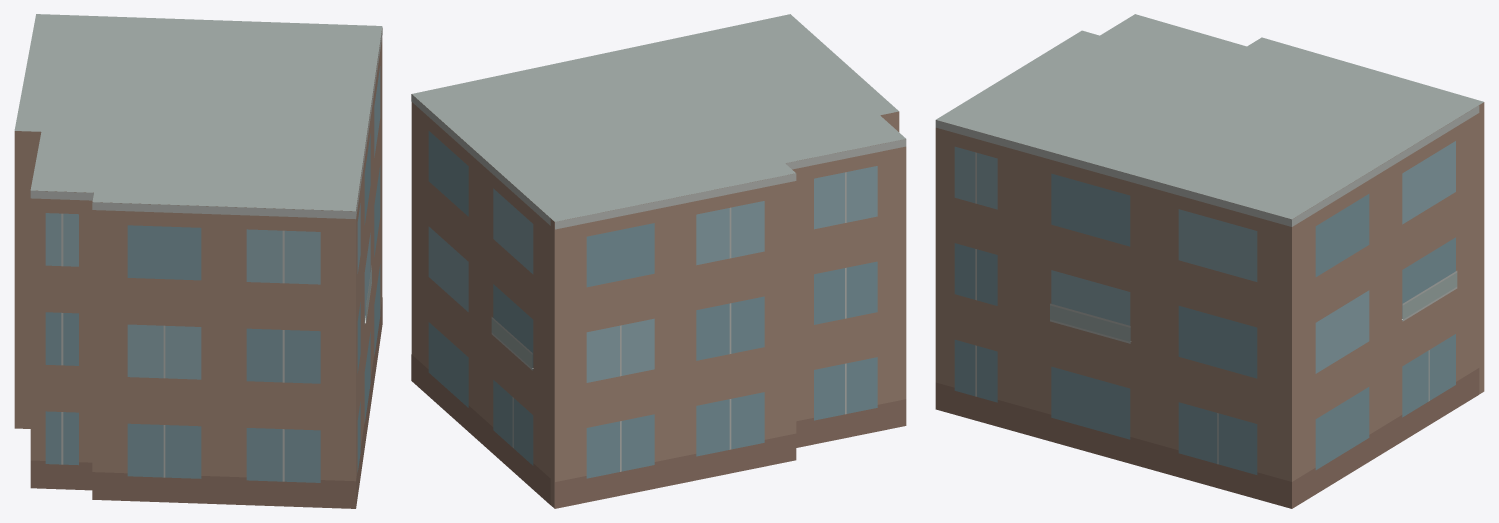
Rendered from survey-upis-32473926.glb.
3 views of the same model, side by side, from view 1: azimuth 30°, elevation 25°; view 2: azimuth 150°, elevation 25°; view 3: azimuth 270°, elevation 25° (orthographic). The views are drawn at different scales.
Parts seen in each view (by area): view 1: survey-upis-32473926.tmp; view 2: survey-upis-32473926.tmp; view 3: survey-upis-32473926.tmp.
Boxes of the visible parts, x1=… form: survey-upis-32473926.tmp: x1=14, y1=14, x2=382, y2=508; survey-upis-32473926.tmp: x1=411, y1=14, x2=906, y2=508; survey-upis-32473926.tmp: x1=935, y1=14, x2=1484, y2=508.
Size of the model in its own units: 13.93 by 9.15 by 15.73.
